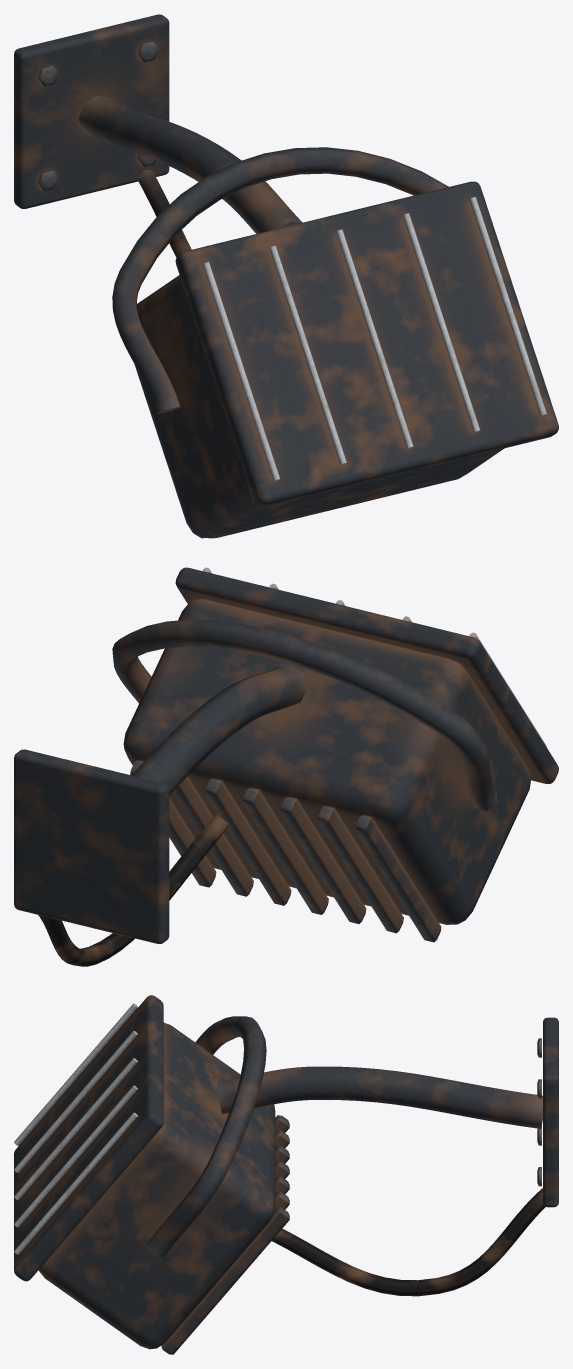
The model's file is huta_reflektor.glb.
3 renders of one model, top to bottom at view 1: azimuth 30°, elevation 25°; view 2: azimuth 150°, elevation 25°; view 3: azimuth 270°, elevation 25°, orthographic. The views are drawn at different scales.
Visible parts, largest first — view 1: Glowica, Wysiegnik; view 2: Glowica, Wysiegnik; view 3: Glowica, Wysiegnik.
Boxes of the visible parts, left/top/right/bottom form: Glowica: left=134, top=181, right=558, bottom=538; Wysiegnik: left=14, top=14, right=448, bottom=413; Glowica: left=123, top=567, right=558, bottom=942; Wysiegnik: left=14, top=619, right=497, bottom=966; Glowica: left=14, top=995, right=289, bottom=1354; Wysiegnik: left=147, top=1016, right=558, bottom=1296.
Bounding box in the file's own units: 0.4434 × 0.3638 × 0.6755.
3 materials, 2 textured.
